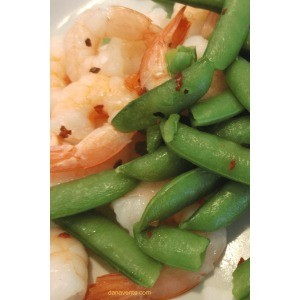green pea_brain food: (131, 101, 219, 213)
